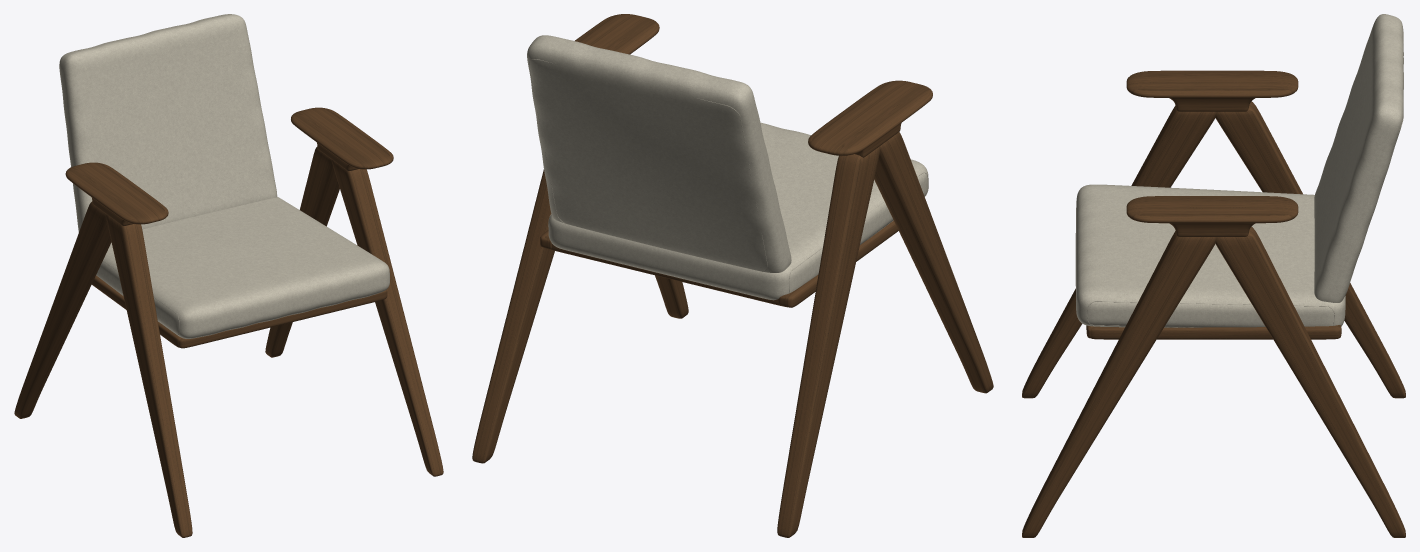
File: walnut-armchair.glb
3 views of the same model, side by side, from view 1: azimuth 30°, elevation 25°; view 2: azimuth 150°, elevation 25°; view 3: azimuth 270°, elevation 25° (orthographic). The views are drawn at different scales.
Visible parts, largest first — view 1: 07 | Inclined upholstered back, 06 | Soft upholstered seat, 01 LEFT front | Tapered timber leg, 01 RIGHT front | Tapered timber leg, 01 LEFT rear | Tapered timber leg, 02 LEFT | Thin paddle armrest top, 02 RIGHT | Thin paddle armrest top, 01 RIGHT rear | Tapered timber leg, 04 front | Seat cross rail, 03 LEFT | Under-seat side rail; view 2: 07 | Inclined upholstered back, 06 | Soft upholstered seat, 01 LEFT rear | Tapered timber leg, 01 LEFT front | Tapered timber leg, 01 RIGHT rear | Tapered timber leg, 02 LEFT | Thin paddle armrest top, 02 RIGHT | Thin paddle armrest top, 03 LEFT | Under-seat side rail, 04 rear | Seat cross rail, 01 RIGHT front | Tapered timber leg; view 3: 06 | Soft upholstered seat, 07 | Inclined upholstered back, 01 RIGHT rear | Tapered timber leg, 01 RIGHT front | Tapered timber leg, 01 LEFT rear | Tapered timber leg, 01 LEFT front | Tapered timber leg, 02 RIGHT | Thin paddle armrest top, 02 LEFT | Thin paddle armrest top, 03 RIGHT | Under-seat side rail, 02 RIGHT | Concave armrest neck, 02 LEFT | Concave armrest neck.
Boxes of the visible parts, bbox=[...] form: 07 | Inclined upholstered back: bbox=[59, 14, 277, 232]; 06 | Soft upholstered seat: bbox=[96, 196, 389, 338]; 01 LEFT front | Tapered timber leg: bbox=[106, 214, 192, 537]; 01 RIGHT front | Tapered timber leg: bbox=[332, 160, 443, 476]; 01 LEFT rear | Tapered timber leg: bbox=[14, 201, 111, 418]; 02 LEFT | Thin paddle armrest top: bbox=[65, 162, 168, 224]; 02 RIGHT | Thin paddle armrest top: bbox=[291, 107, 393, 169]; 01 RIGHT rear | Tapered timber leg: bbox=[265, 146, 339, 357]; 04 front | Seat cross rail: bbox=[179, 290, 387, 348]; 03 LEFT | Under-seat side rail: bbox=[92, 275, 180, 347]; 07 | Inclined upholstered back: bbox=[527, 35, 791, 272]; 06 | Soft upholstered seat: bbox=[548, 122, 928, 300]; 01 LEFT rear | Tapered timber leg: bbox=[777, 146, 880, 537]; 01 LEFT front | Tapered timber leg: bbox=[874, 132, 993, 393]; 01 RIGHT rear | Tapered timber leg: bbox=[472, 169, 554, 463]; 02 LEFT | Thin paddle armrest top: bbox=[808, 80, 932, 155]; 02 RIGHT | Thin paddle armrest top: bbox=[575, 14, 659, 54]; 03 LEFT | Under-seat side rail: bbox=[778, 220, 898, 307]; 04 rear | Seat cross rail: bbox=[545, 235, 788, 306]; 01 RIGHT front | Tapered timber leg: bbox=[655, 275, 688, 318]; 06 | Soft upholstered seat: bbox=[1075, 184, 1345, 327]; 07 | Inclined upholstered back: bbox=[1314, 14, 1403, 302]; 01 RIGHT rear | Tapered timber leg: bbox=[1215, 227, 1405, 537]; 01 RIGHT front | Tapered timber leg: bbox=[1022, 231, 1215, 537]; 01 LEFT rear | Tapered timber leg: bbox=[1215, 101, 1405, 398]; 01 LEFT front | Tapered timber leg: bbox=[1022, 105, 1215, 398]; 02 RIGHT | Thin paddle armrest top: bbox=[1126, 196, 1298, 223]; 02 LEFT | Thin paddle armrest top: bbox=[1126, 70, 1298, 97]; 03 RIGHT | Under-seat side rail: bbox=[1090, 325, 1341, 339]; 02 RIGHT | Concave armrest neck: bbox=[1169, 223, 1255, 236]; 02 LEFT | Concave armrest neck: bbox=[1169, 98, 1255, 111].
Bounding box in the file's own units: 0.6798 × 0.8609 × 0.7356.
Materials: 4 (2 with a texture image).
